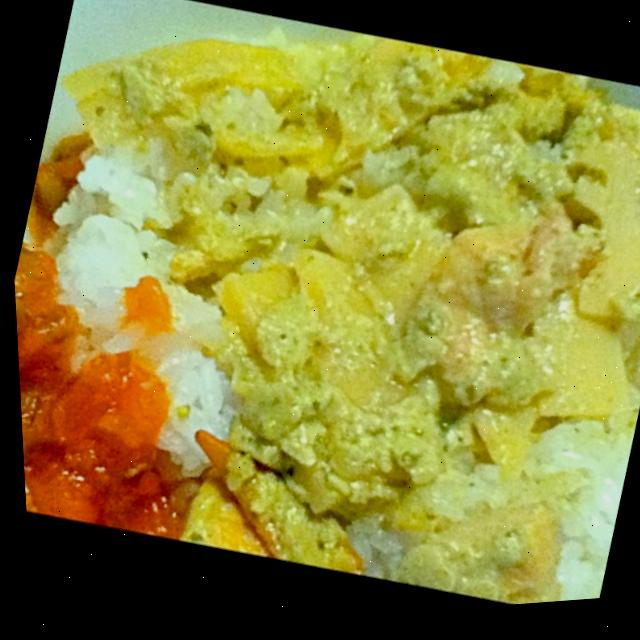蔬菜料理: (66, 0, 640, 636)
